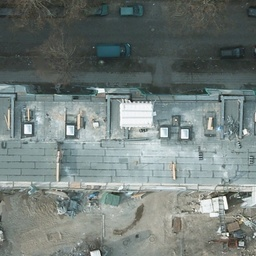car: (36, 2, 70, 17), (79, 2, 112, 16), (220, 43, 247, 59), (119, 4, 144, 16)
van: (99, 42, 132, 61)
